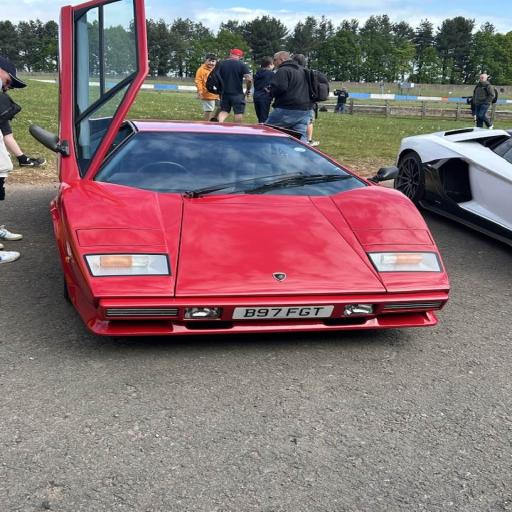numberplates: (233, 306, 334, 318)
